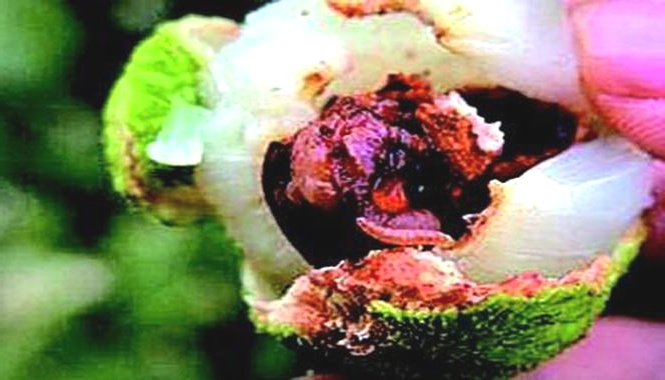Borer: (349, 218, 451, 255)
